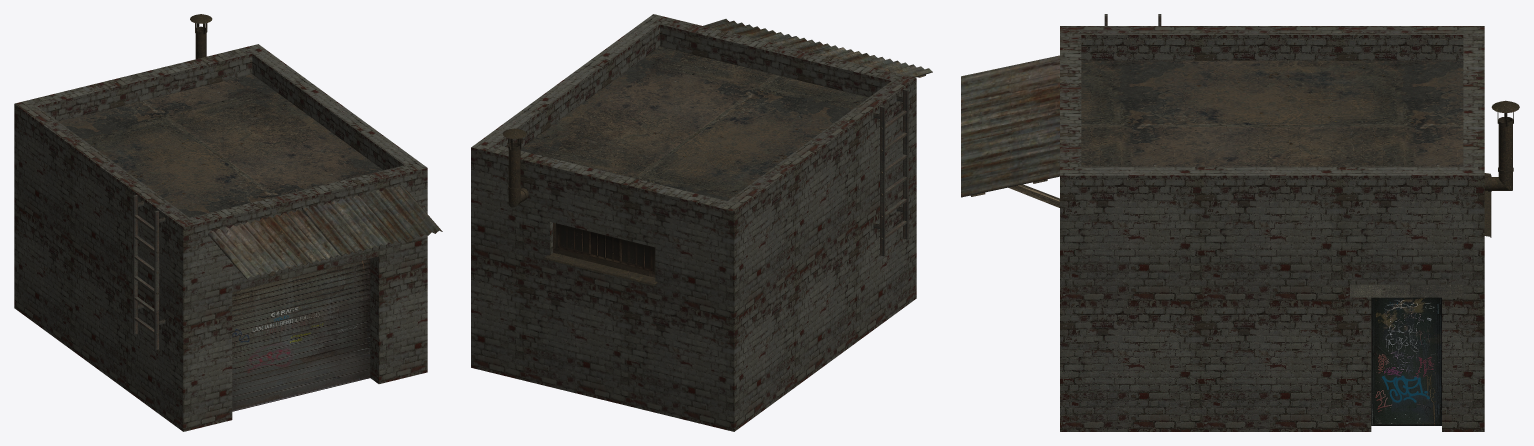
The model's file is garage_hl_2.obj.
3 renders of one model, left to right at view 1: azimuth 30°, elevation 25°; view 2: azimuth 150°, elevation 25°; view 3: azimuth 270°, elevation 25°, orthographic. The views are drawn at different scales.
Parts seen in each view (by area): view 1: garage_hl_2; view 2: garage_hl_2; view 3: garage_hl_2.
Part boxes in pixels (x1=…): garage_hl_2: x1=14, y1=14, x2=442, y2=431; garage_hl_2: x1=471, y1=14, x2=932, y2=431; garage_hl_2: x1=961, y1=14, x2=1519, y2=431.
Bounding box in the file's own units: 5.22 × 4.7 × 7.9.
